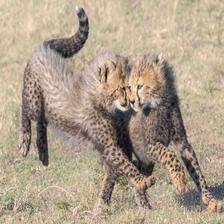Cheetah: (16, 5, 156, 205), (95, 50, 224, 212)
